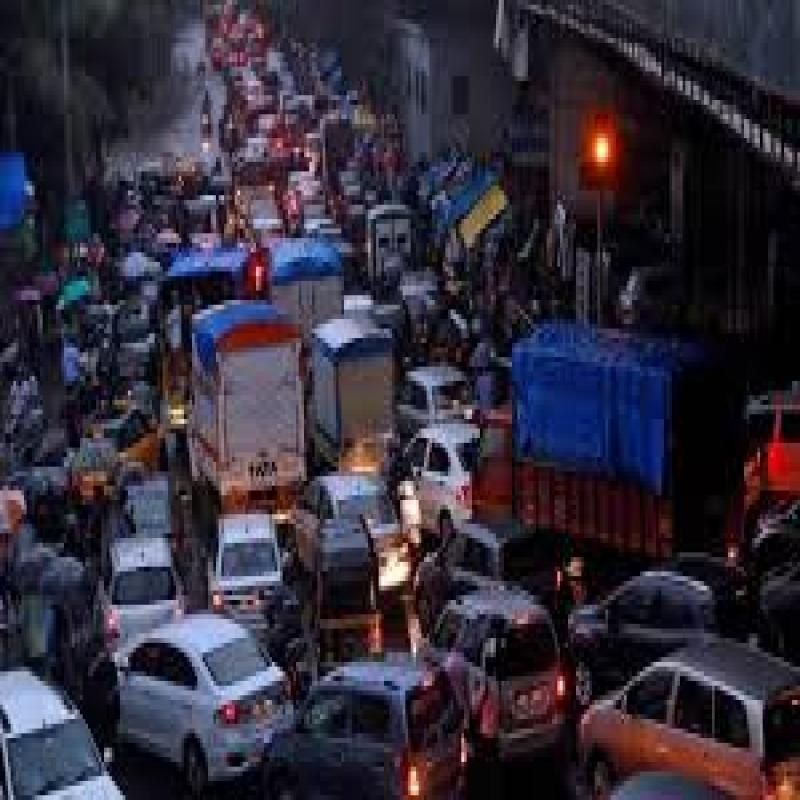car: (563, 600, 797, 800), (406, 555, 576, 779), (108, 587, 294, 783), (264, 638, 456, 800), (0, 625, 114, 800), (283, 449, 415, 597), (199, 494, 300, 646)
